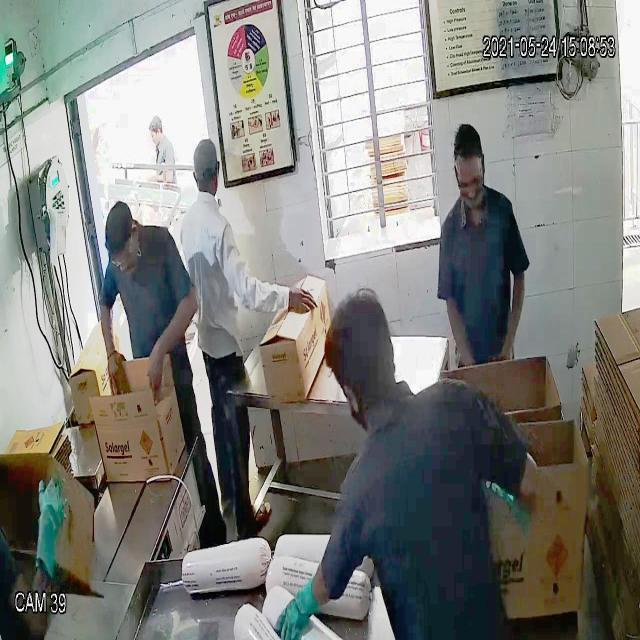glasses: (450, 170, 488, 199)
